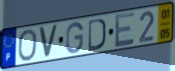2: (138, 9, 155, 44)
D: (88, 17, 108, 53)
E: (114, 10, 136, 49)
G: (65, 21, 85, 55)
O: (17, 28, 38, 63)
V: (38, 24, 59, 59)
